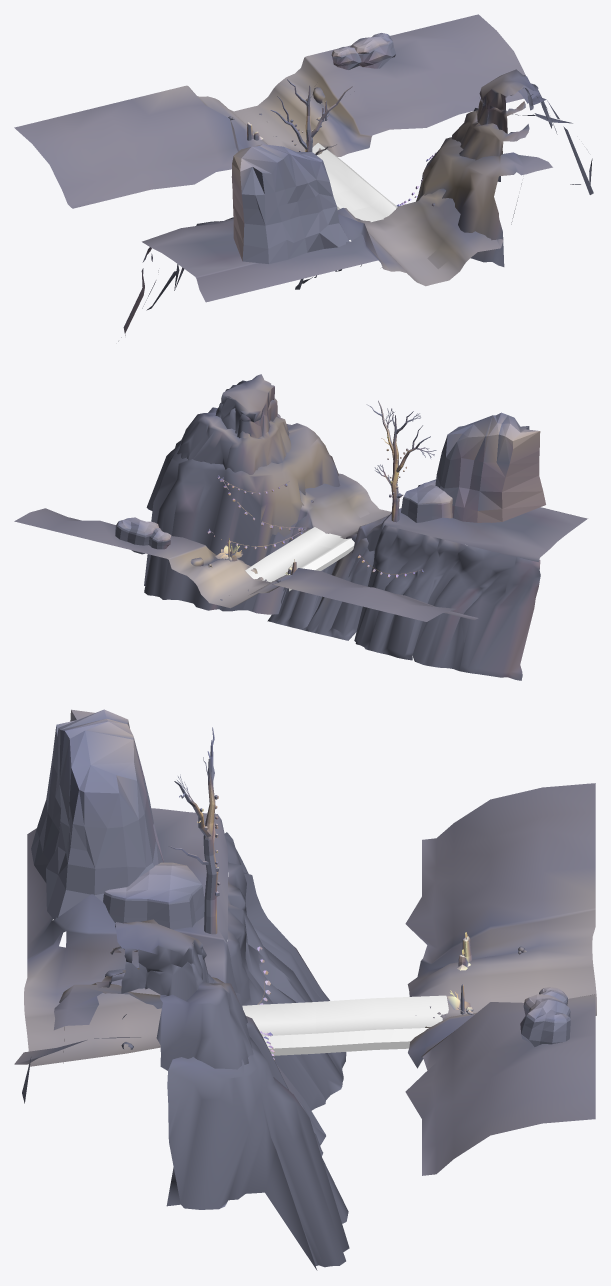
The model's file is Arctic_Luge_Straight_OverObstacle_B.glb.
The picture shows the model from 3 angles, top to bottom: view 1: azimuth 30°, elevation 25°; view 2: azimuth 150°, elevation 25°; view 3: azimuth 270°, elevation 25°; orthographic projection. The views are drawn at different scales.
Parts seen in each view (by area): view 1: Arctic_Luge_Straight_OverObstacle_B, Arctic_Luge_LargeIceRock_prop, inv_fill, Arctic_Luge_SmalRock_prop (1), Arctic_Luge_SmalRock_prop; view 2: Arctic_Luge_Straight_OverObstacle_B, Arctic_Luge_LargeIceRock_prop, inv_fill, Arctic_Luge_SmallIceRock_prop, Arctic_Luge_SmalRock_prop (1), Arctic_BirchA_holiday; view 3: Arctic_Luge_Straight_OverObstacle_B, Arctic_Luge_LargeIceRock_prop, inv_fill, Arctic_Luge_SmallIceRock_prop, Arctic_Luge_SmalRock_prop (1), Arctic_BirchA_holiday.
Boxes of the visible parts, x1,y1,x2,y2 form: Arctic_Luge_Straight_OverObstacle_B: [14, 14, 593, 341]; Arctic_Luge_LargeIceRock_prop: [231, 144, 349, 263]; inv_fill: [312, 143, 397, 222]; Arctic_Luge_SmalRock_prop (1): [350, 33, 395, 68]; Arctic_Luge_SmalRock_prop: [331, 47, 361, 69]; Arctic_Luge_Straight_OverObstacle_B: [14, 374, 587, 680]; Arctic_Luge_LargeIceRock_prop: [435, 412, 545, 522]; inv_fill: [245, 527, 354, 591]; Arctic_Luge_SmallIceRock_prop: [401, 480, 452, 522]; Arctic_Luge_SmalRock_prop (1): [115, 517, 158, 554]; Arctic_BirchA_holiday: [391, 408, 420, 522]; Arctic_Luge_Straight_OverObstacle_B: [14, 783, 596, 1270]; Arctic_Luge_LargeIceRock_prop: [31, 709, 163, 919]; inv_fill: [242, 995, 448, 1055]; Arctic_Luge_SmallIceRock_prop: [103, 862, 204, 929]; Arctic_Luge_SmalRock_prop (1): [520, 994, 570, 1046]; Arctic_BirchA_holiday: [203, 727, 217, 934].
Size of what is drawn, in the model's own units: 26.19 by 13.32 by 19.04.
